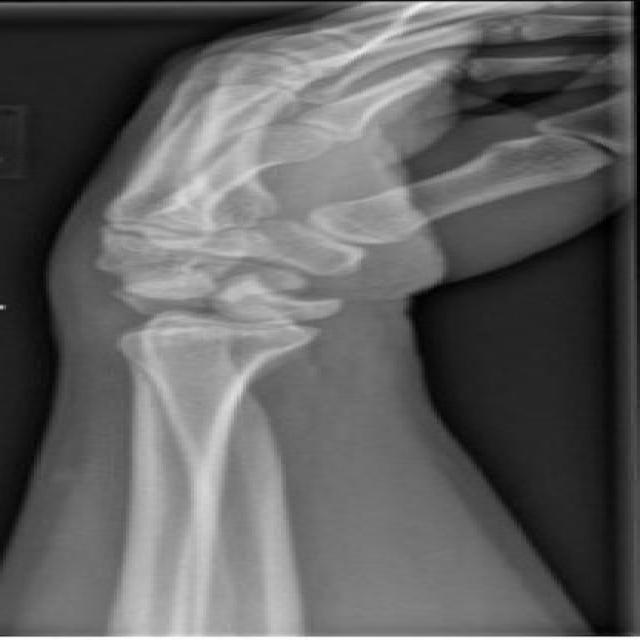Fracture: (72, 173, 392, 379)
